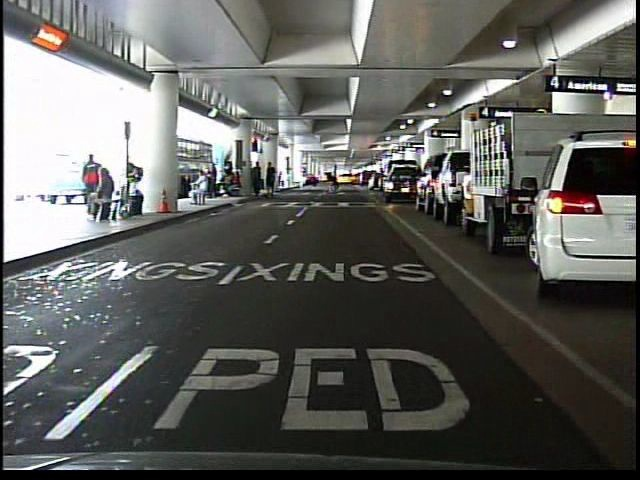person: (188, 171, 213, 208), (321, 163, 343, 196)
